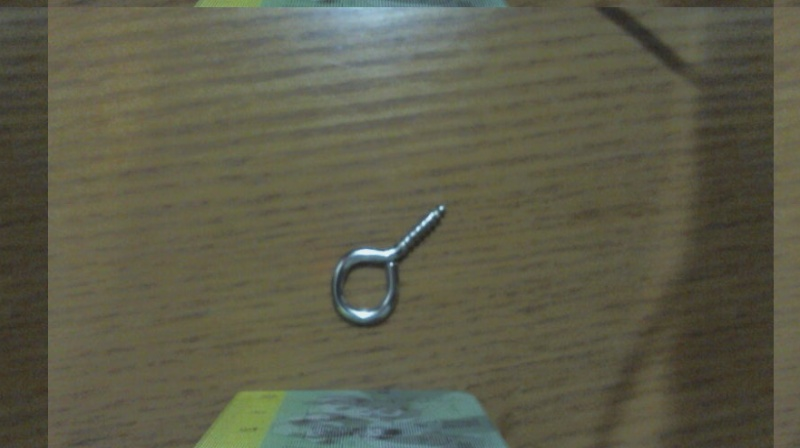O001: (326, 197, 448, 330)
